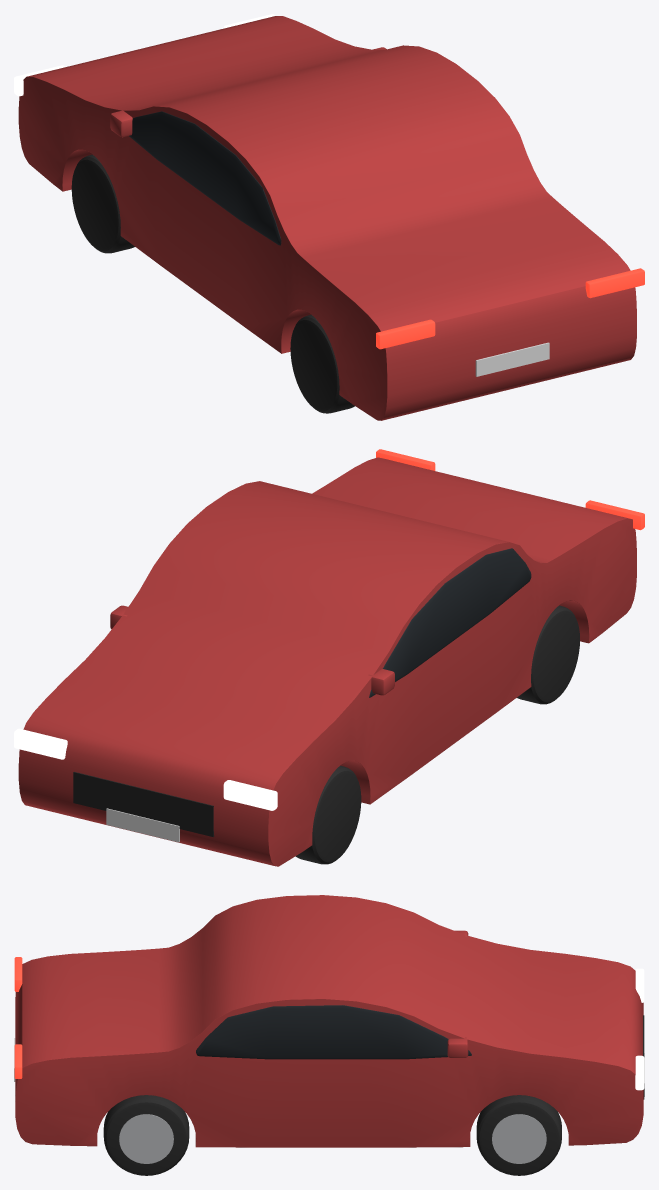
The model's file is car_sedan.glb.
The picture shows the model from 3 angles, top to bottom: view 1: azimuth 30°, elevation 25°; view 2: azimuth 150°, elevation 25°; view 3: azimuth 270°, elevation 25°; orthographic projection. The views are drawn at different scales.
Parts seen in each view (by area): view 1: Body, Glass, Tyre, Tyre.002, PlateR, TailL, TailL.001; view 2: Body, Glass, Grille, Tyre.002, Tyre, PlateF, HeadL, HeadL.001, TailL; view 3: Body, Glass, Tyre.001, Tyre.003, Rim.001, Rim.003, Mirror.001.
Part boxes in pixels (x1,y1,x2,y2): Body: (18,16,636,420); Glass: (129,111,281,245); Tyre: (290,314,354,413); Tyre.002: (71,154,134,253); PlateR: (475,342,549,376); TailL: (376,319,435,349); TailL.001: (585,268,644,298); Body: (18,457,636,866); Glass: (369,548,531,697); Grille: (73,772,214,836); Tyre.002: (295,765,361,864); Tyre: (517,605,579,704); PlateF: (106,808,179,842); HeadL: (223,780,277,810); HeadL.001: (14,728,67,759); TailL: (585,500,644,530); Body: (15,895,643,1147); Glass: (196,1005,471,1059); Tyre.001: (103,1095,189,1175); Tyre.003: (476,1095,561,1175); Rim.001: (119,1114,173,1163); Rim.003: (492,1114,546,1163); Mirror.001: (447,1037,468,1057).
Bounding box in the file's own units: 1.96 × 1.44 × 4.57.
